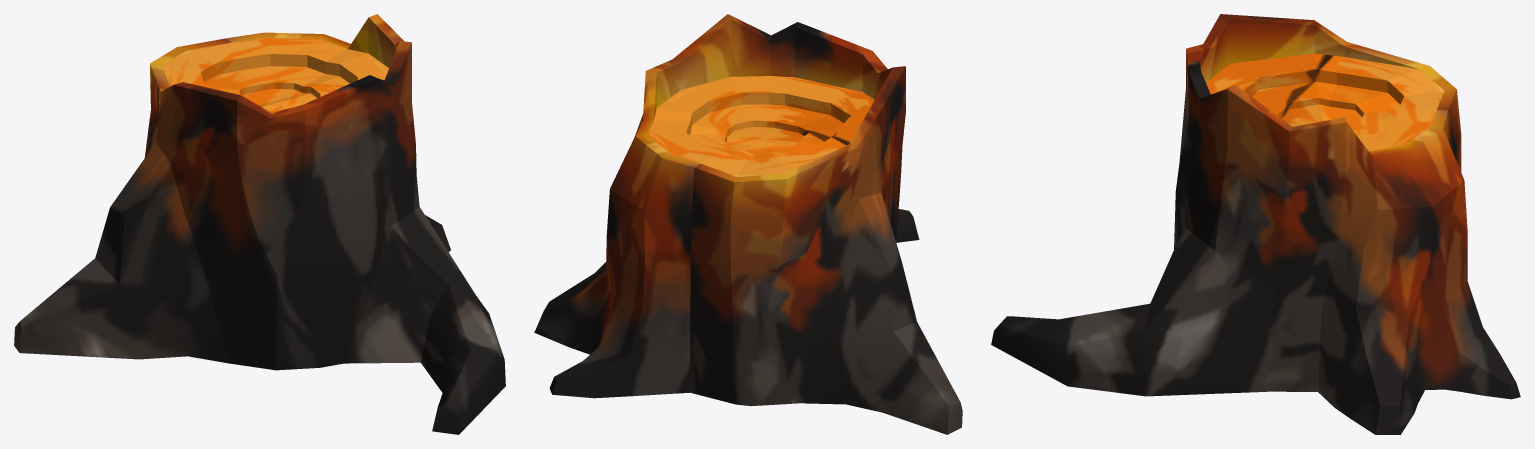
File: Burning Stump.obj
3 renders of one model, left to right at view 1: azimuth 30°, elevation 25°; view 2: azimuth 150°, elevation 25°; view 3: azimuth 270°, elevation 25°, orthographic. The views are drawn at different scales.
Visible parts, largest first — view 1: Birch_Stump:polySurface1; view 2: Birch_Stump:polySurface1; view 3: Birch_Stump:polySurface1.
Boxes of the visible parts, left/top/right/bottom form: Birch_Stump:polySurface1: left=14, top=14, right=505, bottom=434; Birch_Stump:polySurface1: left=534, top=14, right=962, bottom=434; Birch_Stump:polySurface1: left=991, top=14, right=1520, bottom=434.
Size of the model in its own units: 65.28 by 42.31 by 69.56.
Materials: 1 (1 with a texture image).
